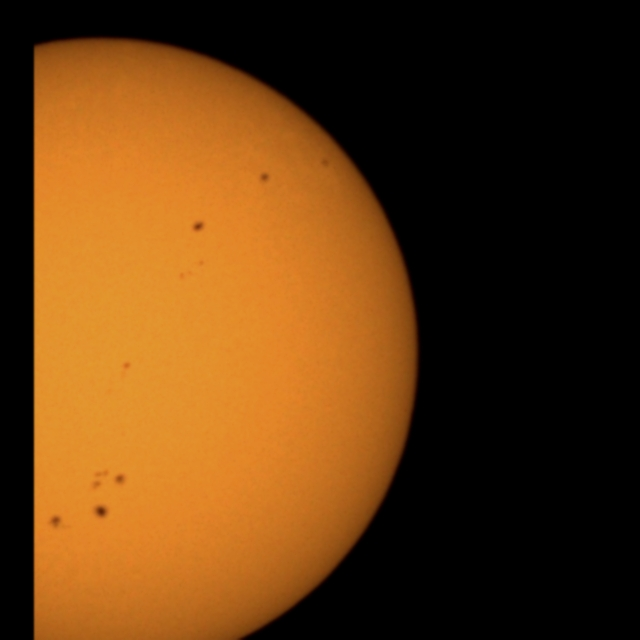sunspot: (89, 468, 128, 491), (179, 259, 205, 280), (47, 513, 67, 532), (91, 502, 110, 521), (190, 219, 206, 235), (178, 268, 195, 281), (258, 171, 271, 185), (319, 157, 331, 170), (122, 361, 132, 372), (197, 259, 205, 267)
